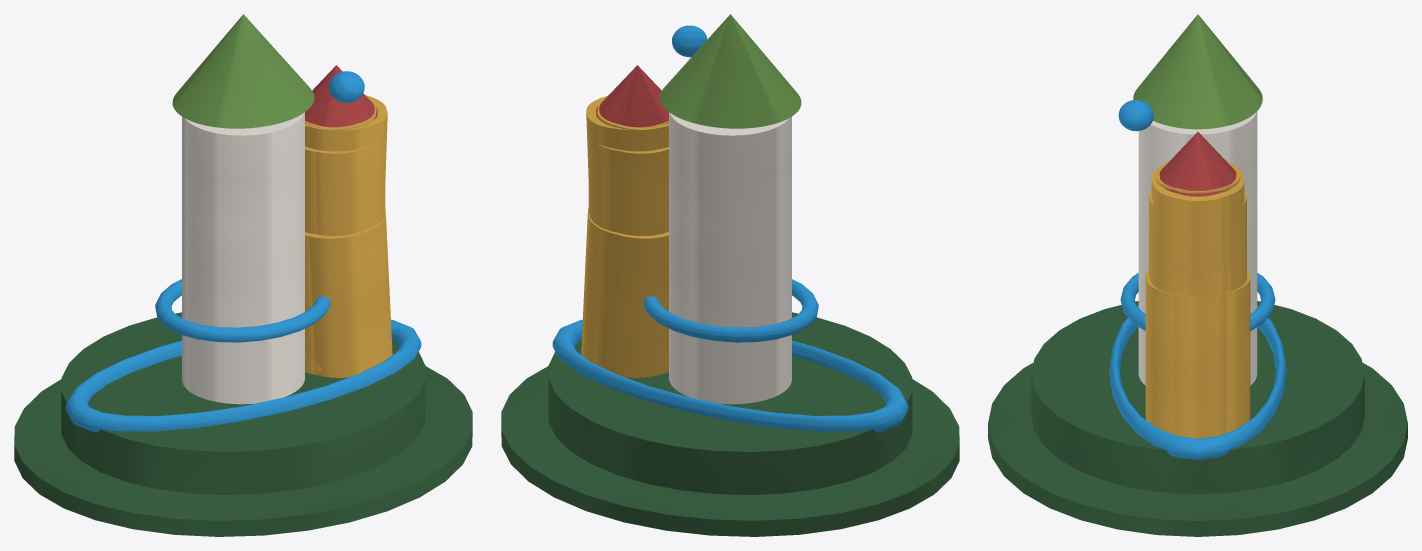
File: 0544_岩石矿物图鉴_石墨.glb
3 views of the same model, side by side, from view 1: azimuth 30°, elevation 25°; view 2: azimuth 150°, elevation 25°; view 3: azimuth 270°, elevation 25° (orthographic).
Visible parts, largest first — view 1: card_0544; view 2: card_0544; view 3: card_0544.
Part boxes in pixels (bbox=[...]): card_0544: bbox=[14, 14, 472, 536]; card_0544: bbox=[501, 14, 959, 536]; card_0544: bbox=[988, 14, 1407, 536].
Size of the model in its own units: 0.9918 by 1 by 0.8957.
